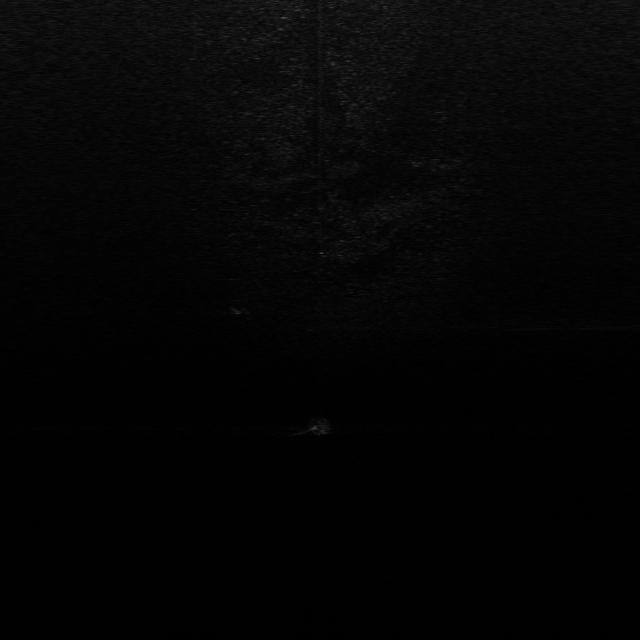ball: (302, 415, 336, 435)
circle cage: (227, 298, 254, 316)
